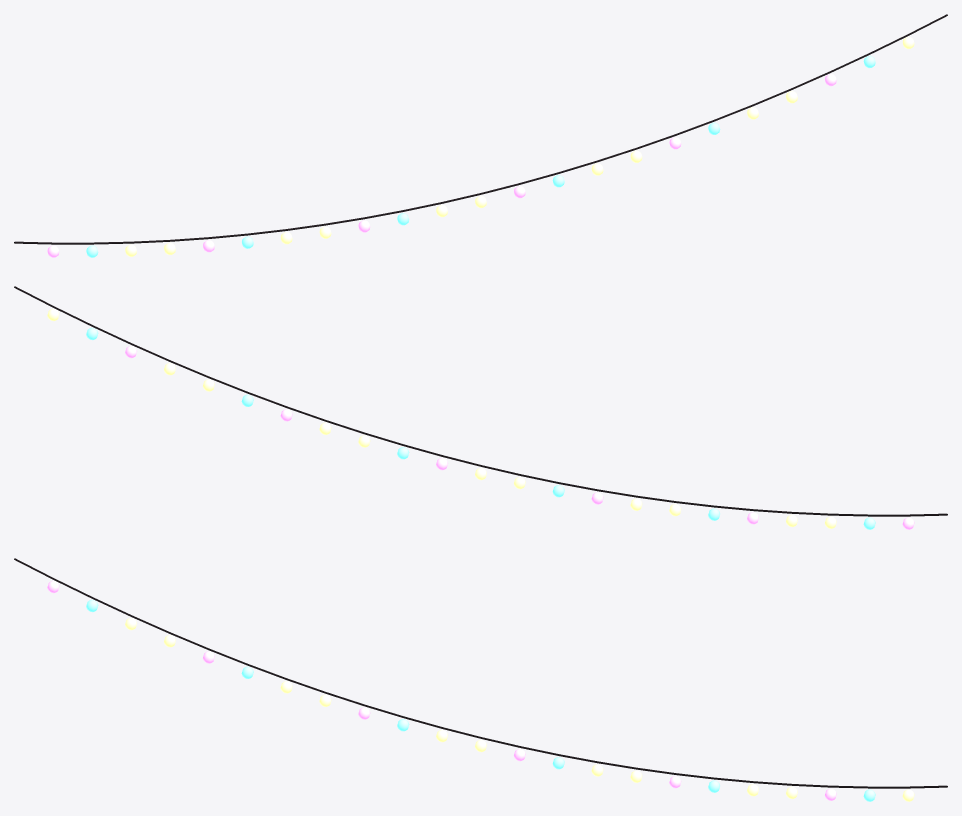
File: fair-garland.glb
The picture shows the model from 3 angles, top to bottom: view 1: azimuth 30°, elevation 25°; view 2: azimuth 150°, elevation 25°; view 3: azimuth 330°, elevation 25°; orthographic projection.
Visible parts, largest first — view 1: fair-garland; view 2: fair-garland; view 3: fair-garland.
Boxes of the visible parts, x1,y1,x2,y2 form: fair-garland: (14,14,947,257); fair-garland: (14,286,947,529); fair-garland: (14,558,947,801).
Bounding box in the file's own units: 12.01 × 0.9816 × 0.14.
